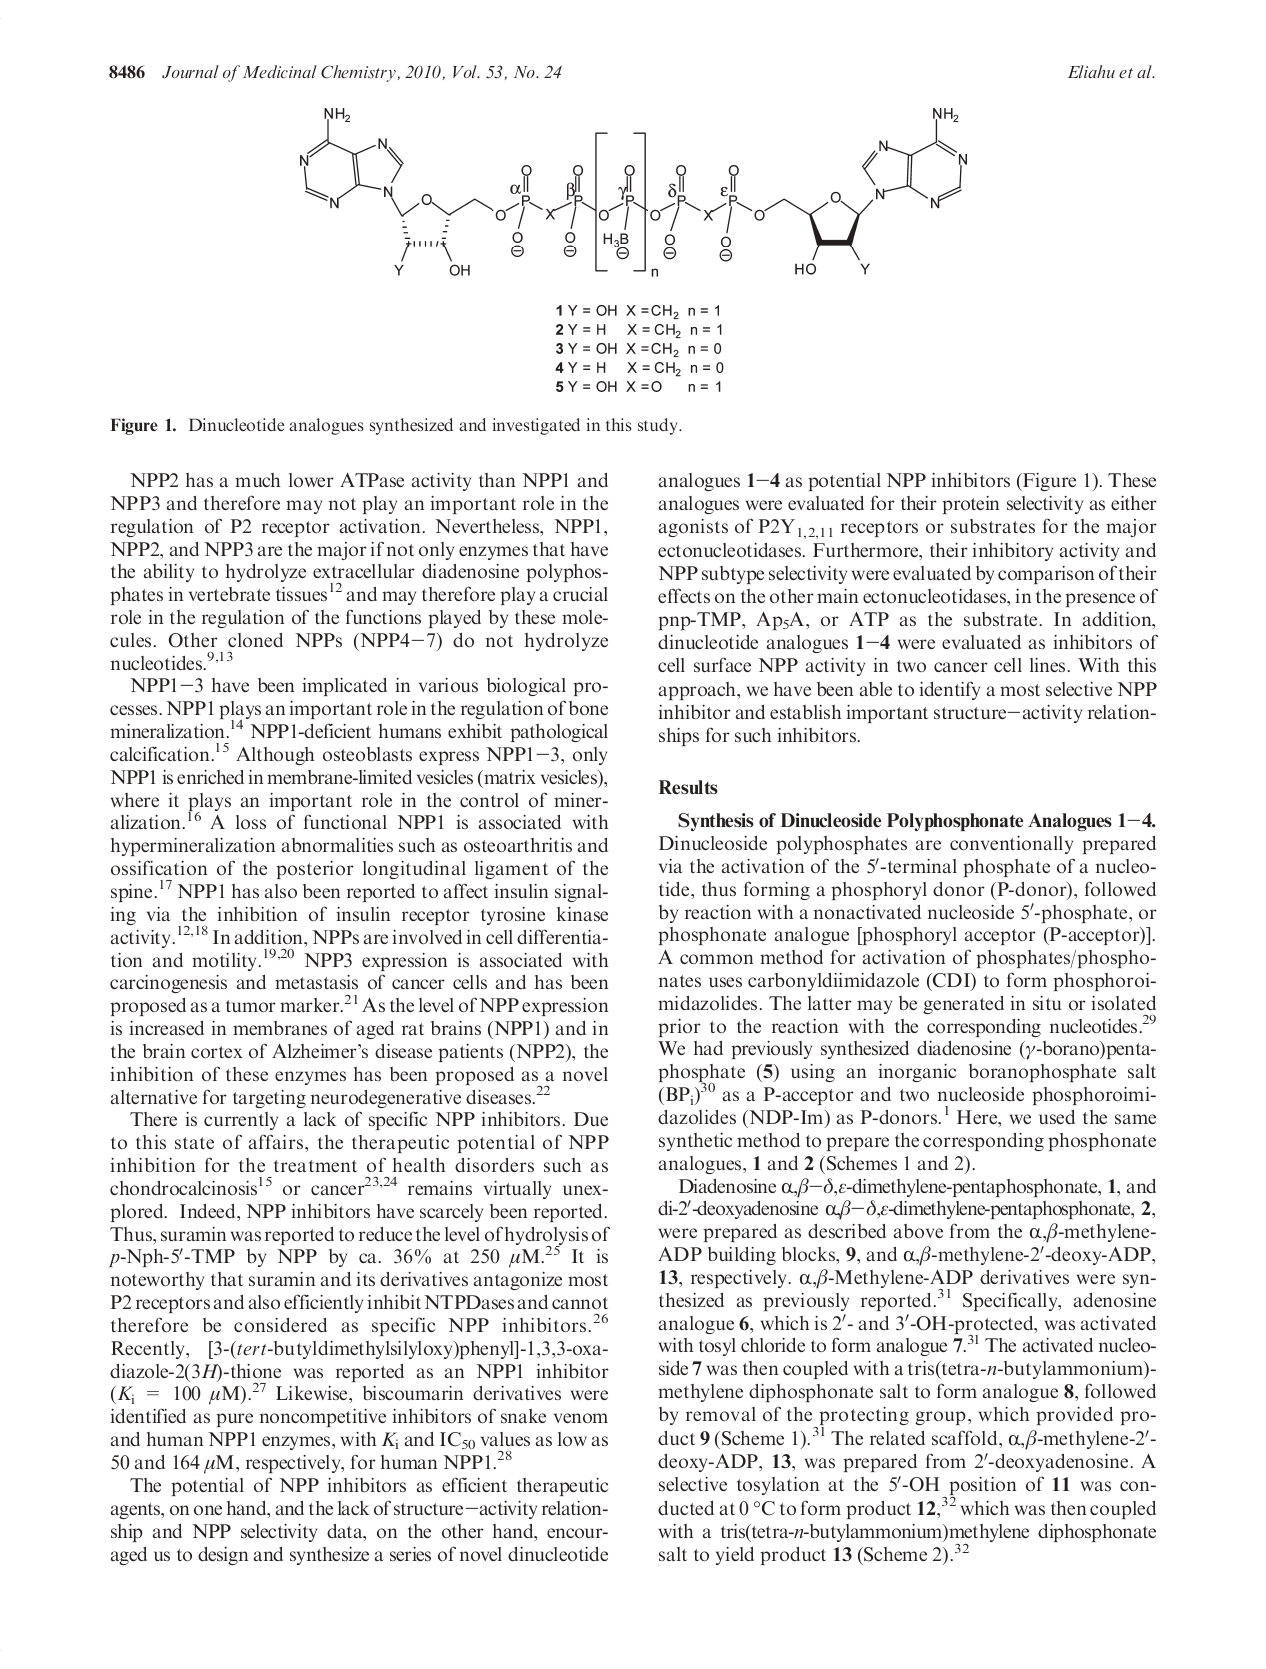exist_molecular: (297, 106, 969, 281)
